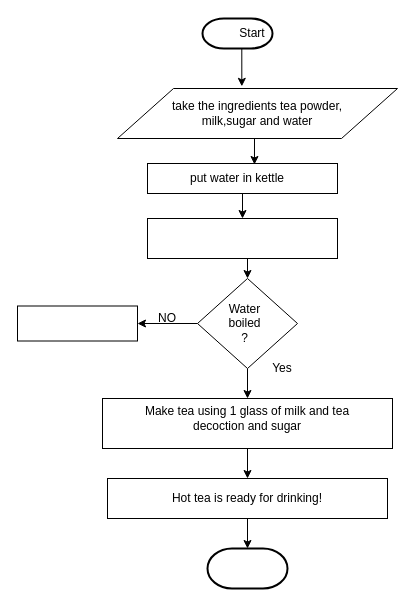
Image size: 415x606. Some labels were removed from this diagram. Here are the shapes that lost their labels. From the top down, the box of each, then its label:
(146, 218, 338, 258): put kettle on stove and boil the water
(16, 305, 138, 341): boil for 30 Sec
(206, 547, 288, 589): Stop
